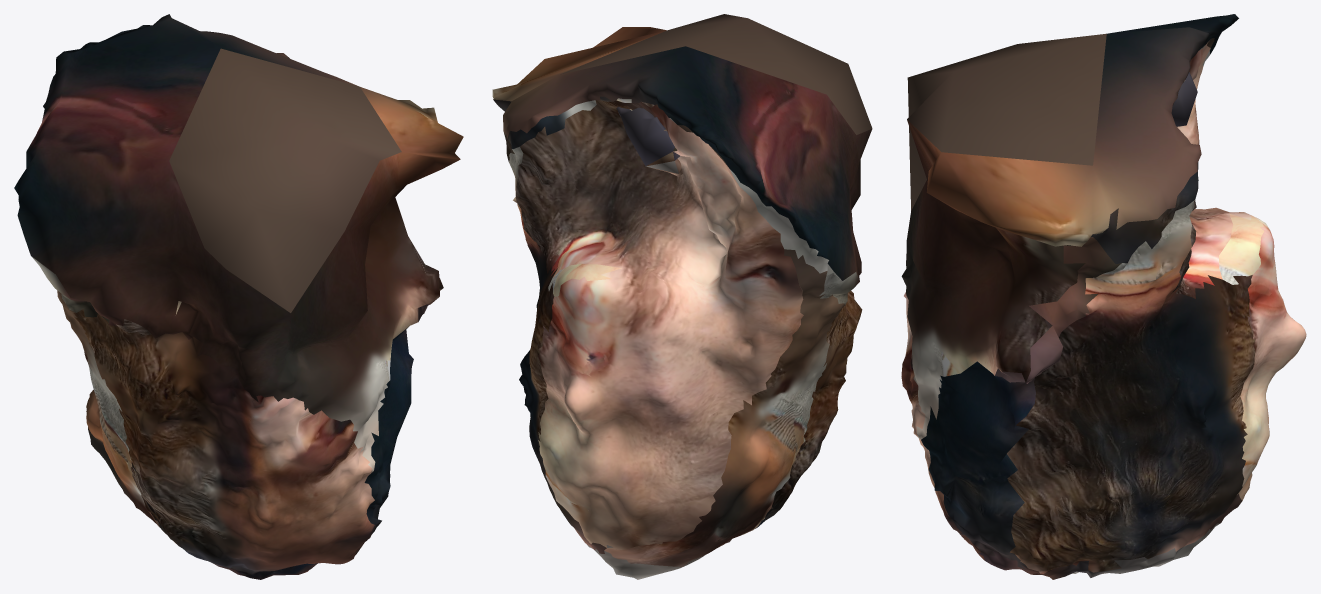
File: SelinaHead.obj
3 views of the same model, side by side, from view 1: azimuth 30°, elevation 25°; view 2: azimuth 150°, elevation 25°; view 3: azimuth 270°, elevation 25° (orthographic).
Visible parts, largest first — view 1: mesh; view 2: mesh; view 3: mesh.
Boxes of the visible parts, left/top/right/bottom form: mesh: left=14, top=14, right=463, bottom=579; mesh: left=492, top=14, right=872, bottom=579; mesh: left=901, top=14, right=1306, bottom=579.
Bounding box in the file's own units: 0.4662 × 0.6144 × 0.4299.
